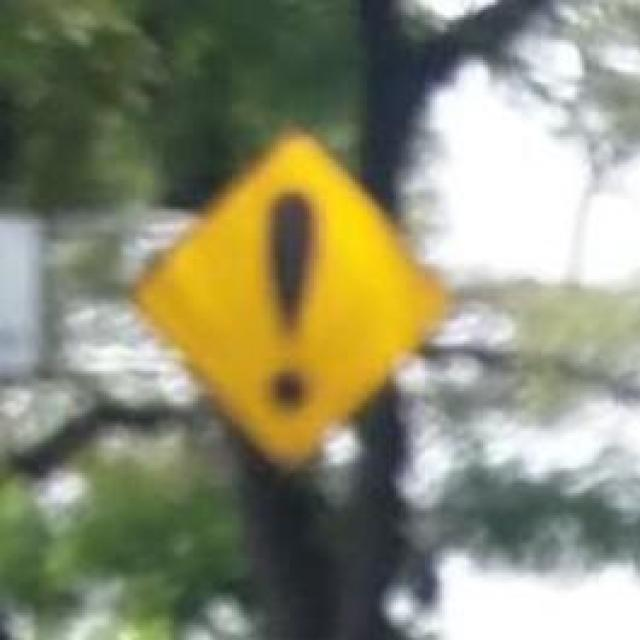traffic sign: (133, 132, 457, 478)
